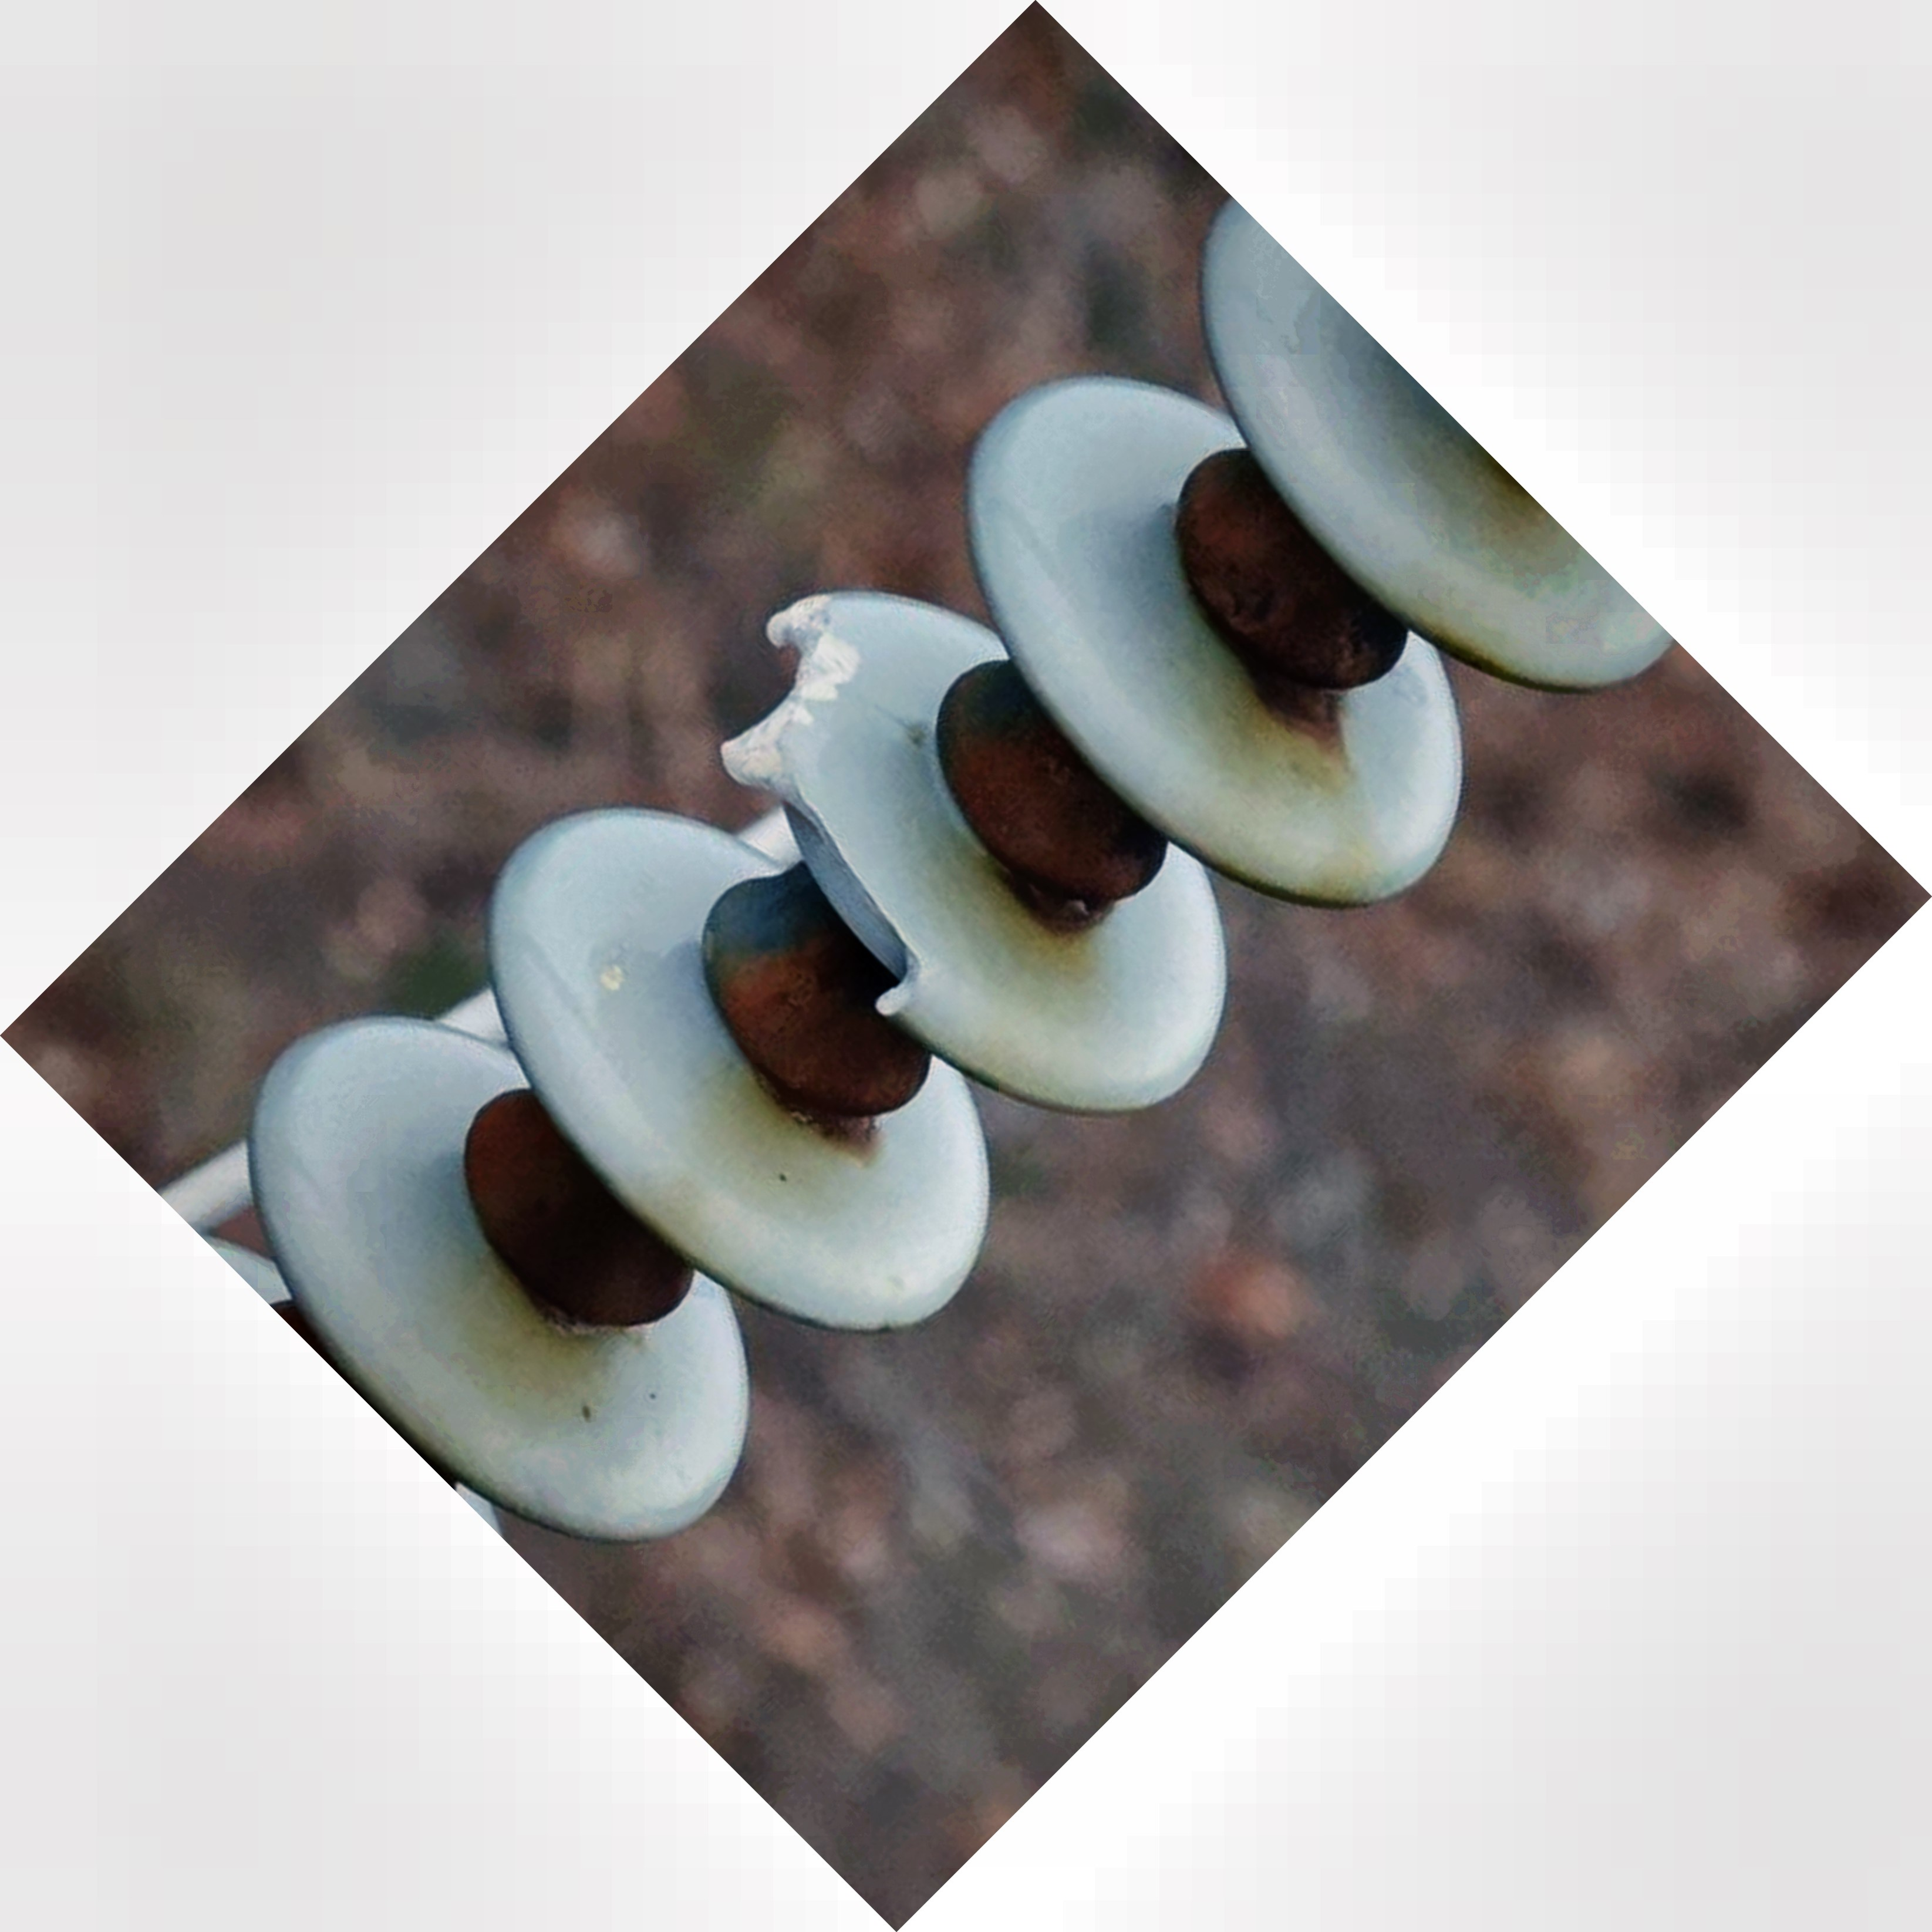insulator breakage: (718, 550, 1242, 1122)
